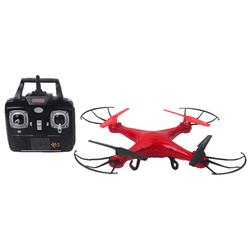drone: (74, 104, 248, 178)
